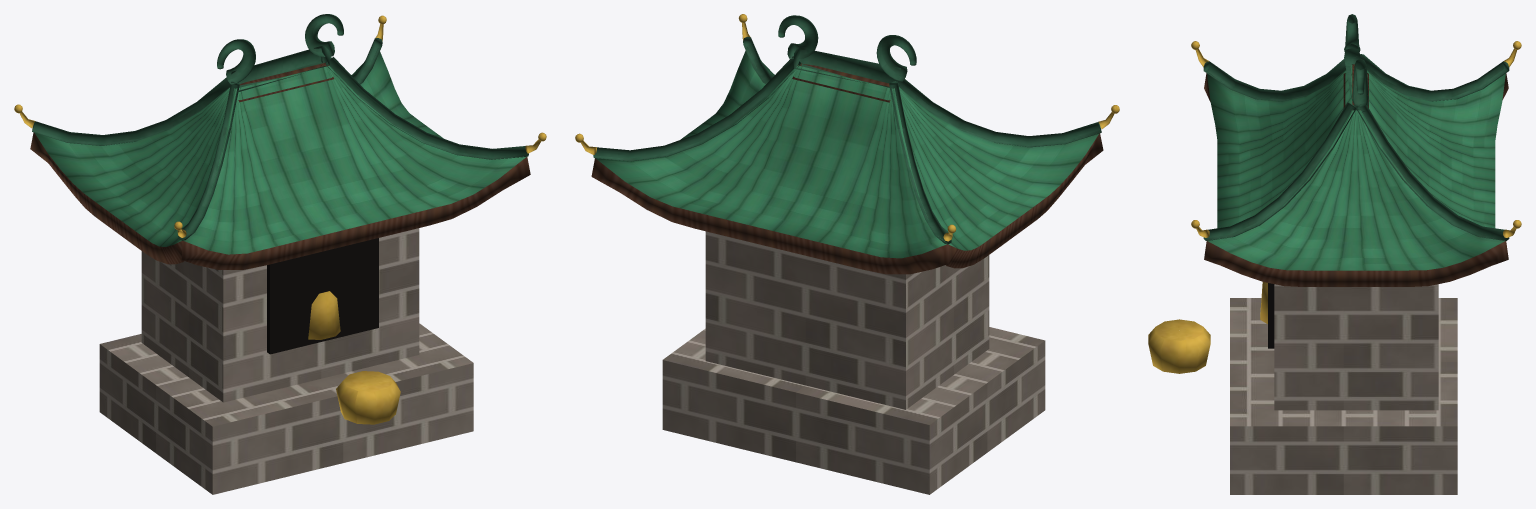
Rendered from earth_shrine.glb.
3 renders of one model, left to right at view 1: azimuth 30°, elevation 25°; view 2: azimuth 150°, elevation 25°; view 3: azimuth 270°, elevation 25°, orthographic. The views are drawn at different scales.
Visible parts, largest first — view 1: ShrineRoof, ShrineBase, ShrineRoofRidges, Niche, Statue, ShrineRoofOrnaments; view 2: ShrineBase, ShrineRoof, ShrineRoofRidges, ShrineRoofOrnaments; view 3: ShrineRoof, ShrineBase, ShrineRoofRidges, Statue, ShrineRoofOrnaments, Niche.
Part boxes in pixels (x1,y1,x2,y2): ShrineRoof: (30,48,530,269); ShrineBase: (99,228,473,494); ShrineRoofRidges: (32,14,528,240); Niche: (267,238,378,354); Statue: (308,291,400,424); ShrineRoofOrnaments: (14,15,546,237); ShrineBase: (662,231,1045,494); ShrineRoof: (591,47,1103,274); ShrineRoofRidges: (593,15,1101,244); ShrineRoofOrnaments: (575,14,1119,241); ShrineRoof: (1204,64,1508,286); ShrineBase: (1230,284,1457,494); ShrineRoofRidges: (1203,14,1509,240); Statue: (1148,282,1267,373); ShrineRoofOrnaments: (1191,41,1521,237); Niche: (1268,283,1274,348).
Size of what is drawn, in the model's own units: 3.41 by 3.43 by 2.96.
Materials: 6 (5 with a texture image).
